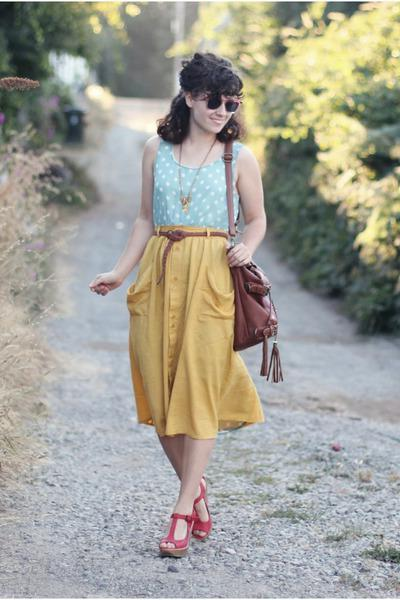skirt: (124, 229, 266, 439)
vest: (145, 133, 247, 233)
